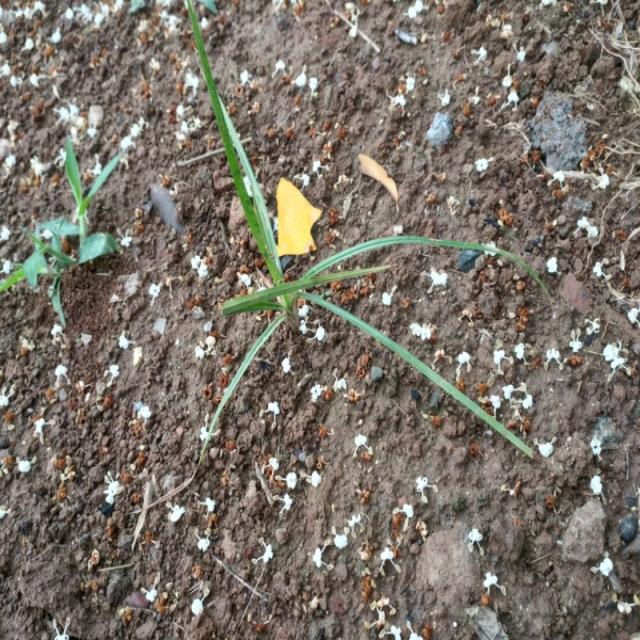sedge: (162, 32, 548, 480)
